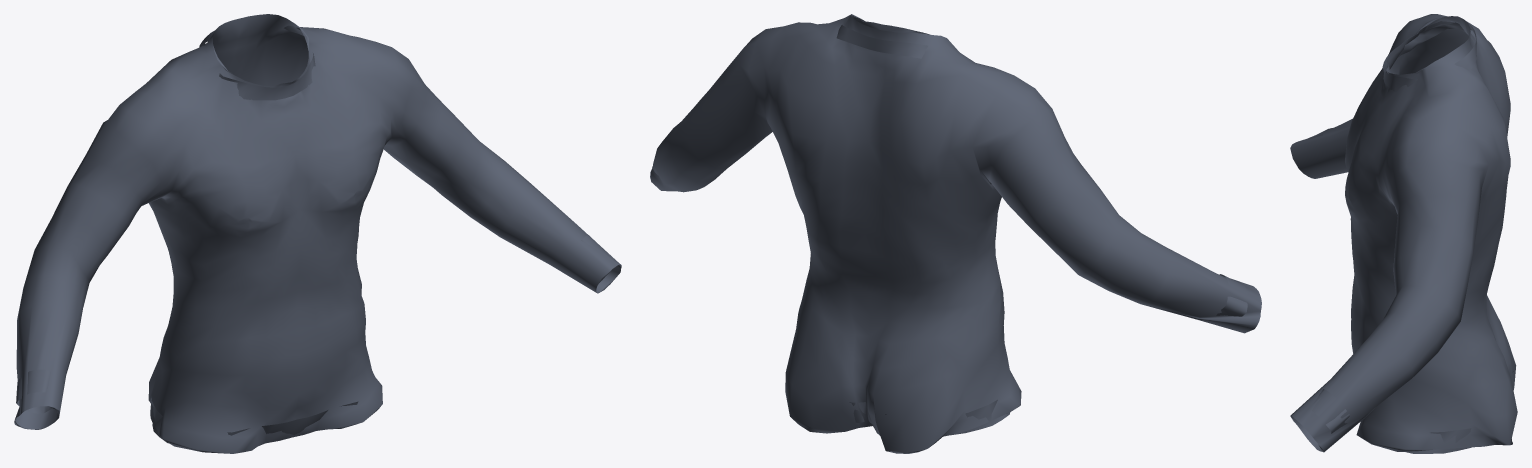
Rendered from sweater.glb.
The picture shows the model from 3 angles, left to right: view 1: azimuth 30°, elevation 25°; view 2: azimuth 150°, elevation 25°; view 3: azimuth 270°, elevation 25°; orthographic projection. The views are drawn at different scales.
Parts seen in each view (by area): view 1: sweater; view 2: sweater; view 3: sweater.
Part boxes in pixels (box(x1,y1,x2,y2)): sweater: box(14, 14, 621, 453); sweater: box(650, 14, 1261, 453); sweater: box(1290, 14, 1517, 453).
Bounding box in the file's own units: 1.07 × 0.675 × 0.3545.
